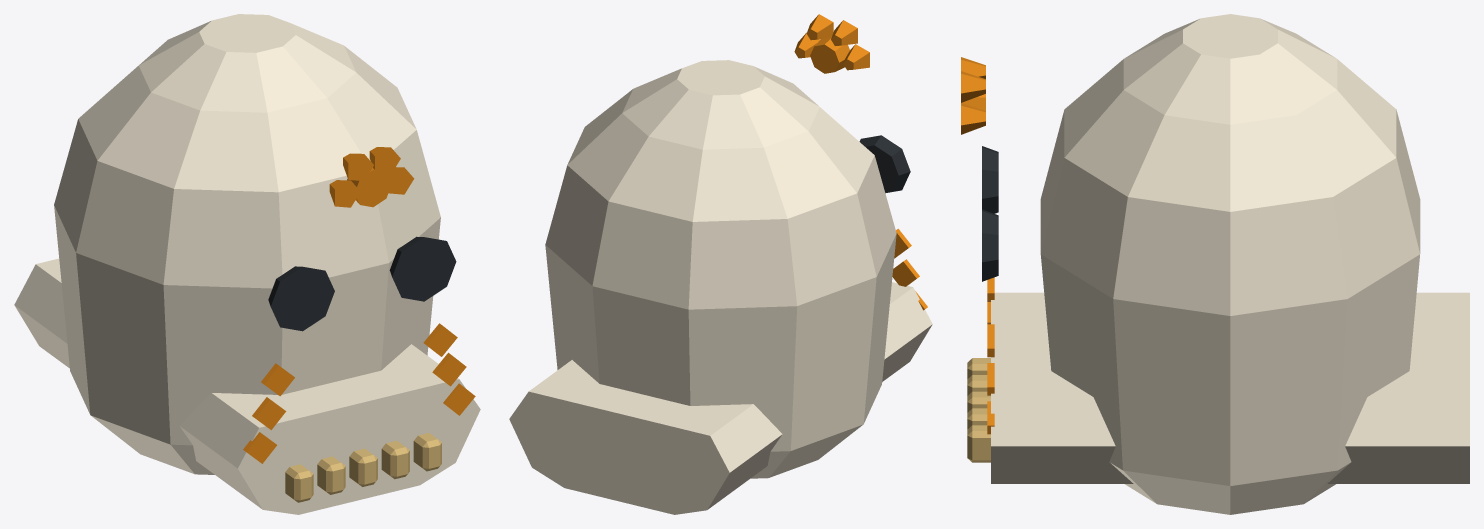
Rendered from sugar_skull.glb.
The picture shows the model from 3 angles, left to right: view 1: azimuth 30°, elevation 25°; view 2: azimuth 150°, elevation 25°; view 3: azimuth 270°, elevation 25°; orthographic projection. The views are drawn at different scales.
Visible parts, largest first — view 1: Cráneo, Mandíbula integrada, Cuenca hundida, Cuenca hundida.001, Centro flor, Diente integrado, Diente integrado.002, Diente integrado.001, Diente integrado.003, Diente integrado.004, Pétalo frontal.001, Pétalo frontal.003 (+8 smaller); view 2: Cráneo, Mandíbula integrada, Cuenca hundida, Centro flor, Pétalo frontal.002, Pétalo frontal.001, Pétalo frontal.003, Filigrana pómulo.001; view 3: Cráneo, Mandíbula integrada, Cuenca hundida.001, Cuenca hundida, Diente integrado.004, Pétalo frontal, Pétalo frontal.001.
Boxes of the visible parts, bbox=[...] form: Cráneo: bbox=[54, 14, 440, 474]; Mandíbula integrada: bbox=[14, 258, 480, 514]; Cuenca hundida: bbox=[268, 266, 334, 331]; Cuenca hundida.001: bbox=[389, 236, 456, 301]; Centro flor: bbox=[347, 167, 391, 207]; Diente integrado: bbox=[285, 464, 313, 502]; Diente integrado.002: bbox=[349, 448, 377, 486]; Diente integrado.001: bbox=[317, 456, 345, 494]; Diente integrado.003: bbox=[381, 440, 409, 479]; Diente integrado.004: bbox=[413, 433, 441, 471]; Pétalo frontal.001: bbox=[369, 147, 400, 174]; Pétalo frontal.003: bbox=[329, 180, 360, 207]; Cráneo: bbox=[545, 60, 896, 478]; Mandíbula integrada: bbox=[509, 282, 932, 514]; Cuenca hundida: bbox=[859, 135, 910, 193]; Centro flor: bbox=[810, 36, 849, 73]; Pétalo frontal.002: bbox=[831, 20, 857, 45]; Pétalo frontal.001: bbox=[806, 14, 833, 40]; Pétalo frontal.003: bbox=[843, 44, 869, 70]; Filigrana pómulo.001: bbox=[892, 259, 919, 286]; Cráneo: bbox=[1040, 14, 1420, 514]; Mandíbula integrada: bbox=[991, 292, 1469, 483]; Cuenca hundida.001: bbox=[982, 209, 998, 281]; Cuenca hundida: bbox=[982, 146, 998, 213]; Diente integrado.004: bbox=[967, 425, 990, 462]; Pétalo frontal: bbox=[961, 103, 985, 134]; Pétalo frontal.001: bbox=[961, 71, 985, 102].
Bounding box in the file's own units: 0.2 × 0.22 × 0.24.
